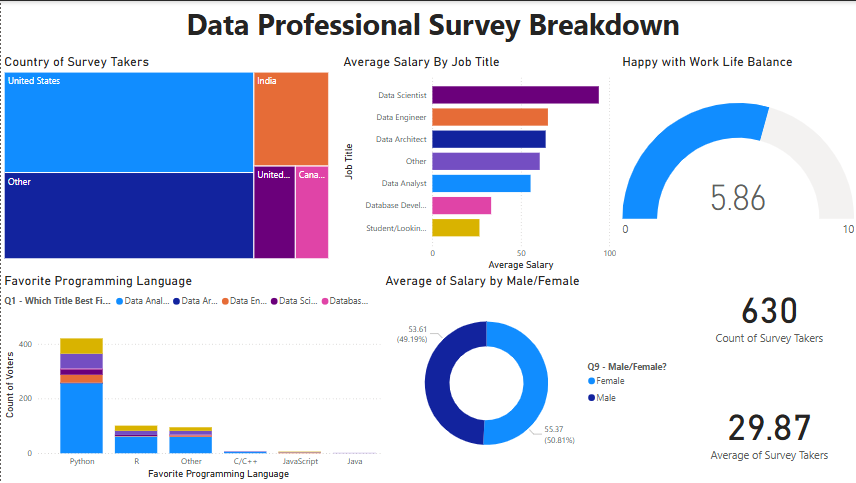

What the dashboard file says about the page in this screenshot:
{"tool":"powerbi","page":{"name":"Page 1","canvas":[1280,720],"ordinal":0},"visuals":[{"type":"textbox","box":[10.5,0,1269.5,78.6],"z":0},{"type":"card","fields":{"Values":["CountNonNull(Data Professional Survey.Unique ID)"]},"box":[1016.3,389.4,263.7,150.2],"z":1000},{"type":"card","fields":{"Values":["Avg(Data Professional Survey.Q10 - Current Age)"]},"box":[1016.3,564,263.7,150.2],"z":2000},{"type":"barChart","title":"Average Salary By Job Title","fields":{"Category":["Data Professional Survey.Q1 - Which Title Best Fits your Current Role?.1"],"Y":["Avg(Data Professional Survey.Avg Salary)"],"Series":["Data Professional Survey.Q1 - Which Title Best Fits your Current Role?.1"]},"box":[506.4,78.6,417.4,328.3],"z":3000},{"type":"columnChart","title":"Favorite Programming Language","fields":{"Category":["Data Professional Survey.Q5 - Favorite Programming Language.1"],"Y":["CountNonNull(Data Professional Survey.Unique ID)"],"Series":["Data Professional Survey.Q1 - Which Title Best Fits your Current Role?.1"]},"box":[0,406.9,599,312.6],"z":4000},{"type":"treemap","title":"Country of Survey Takers","fields":{"Group":["Data Professional Survey.Q11 - Which Country do you live in?.1"],"Values":["CountNonNull(Data Professional Survey.Q11 - Which Country do you live in?.1)"]},"box":[0,78.6,494.2,310.8],"z":5000},{"type":"gauge","title":"Happy with Work Life Balance","fields":{"Y":["Avg(Data Professional Survey.Q6 - How Happy are you in your Current Position with the following? (Coworkers))"],"MinValue":["Min(Data Professional Survey.Q6 - How Happy are you in your Current Position with the following? (Learning New Things))"],"MaxValue":["Max(Data Professional Survey.Q6 - How Happy are you in your Current Position with the following? (Management))"]},"box":[923.8,78.6,356.2,328.3],"z":6000},{"type":"donutChart","title":"Average of Salary by Male/Female","fields":{"Category":["Data Professional Survey.Q9 - Male/Female?"],"Y":["Avg(Data Professional Survey.Avg Salary)"]},"box":[569.3,406.9,447,307.3],"z":7000}]}

Visuals, with their boxes in screenshot pixels (x1, y1, x2, y2), scaled from the page's 1280x720 canvas onto the 856x483 screenshot:
textbox: rect(7, 0, 855, 53)
card - CountNonNull(Data Professional Survey.Unique ID): rect(680, 261, 855, 362)
card - Avg(Data Professional Survey.Q10 - Current Age): rect(680, 378, 855, 479)
"Average Salary By Job Title" barChart: rect(339, 53, 618, 273)
"Favorite Programming Language" columnChart: rect(0, 273, 401, 482)
"Country of Survey Takers" treemap: rect(0, 53, 330, 261)
"Happy with Work Life Balance" gauge: rect(618, 53, 855, 273)
"Average of Salary by Male/Female" donutChart: rect(381, 273, 680, 479)
